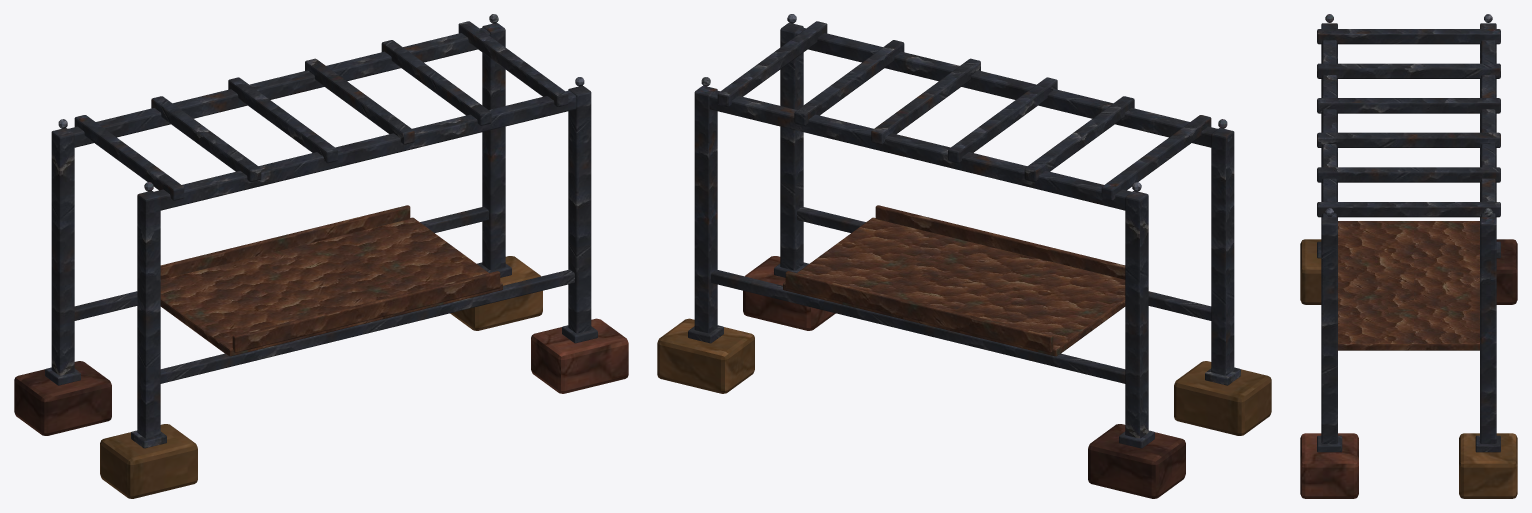
File: ef_cooling_rack_empty.glb
3 renders of one model, left to right at view 1: azimuth 30°, elevation 25°; view 2: azimuth 150°, elevation 25°; view 3: azimuth 270°, elevation 25°, orthographic. The views are drawn at different scales.
Visible parts, largest first — view 1: model; view 2: model; view 3: model.
Boxes of the visible parts, box(x1,y1,x2,y2) form: model: box(14, 14, 628, 498); model: box(657, 14, 1271, 498); model: box(1300, 14, 1517, 498).
Size of the model in its own units: 1.28 by 0.731 by 0.52.
7 materials, 7 textured.
